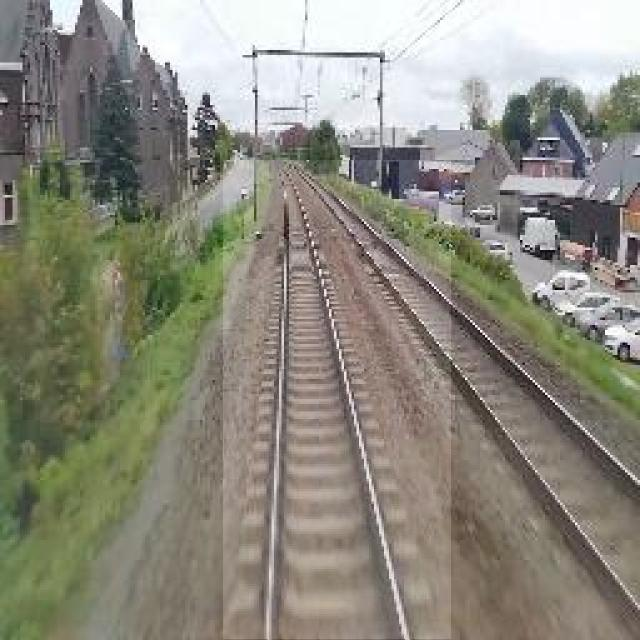rail: (225, 161, 452, 640)
